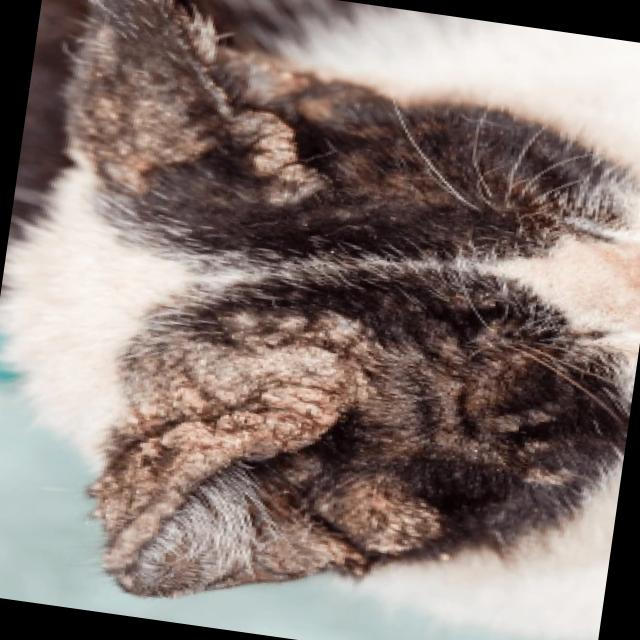Mange: (89, 345, 367, 577), (236, 111, 326, 204), (80, 101, 164, 189), (302, 511, 365, 575), (369, 502, 443, 553), (520, 466, 583, 500)
